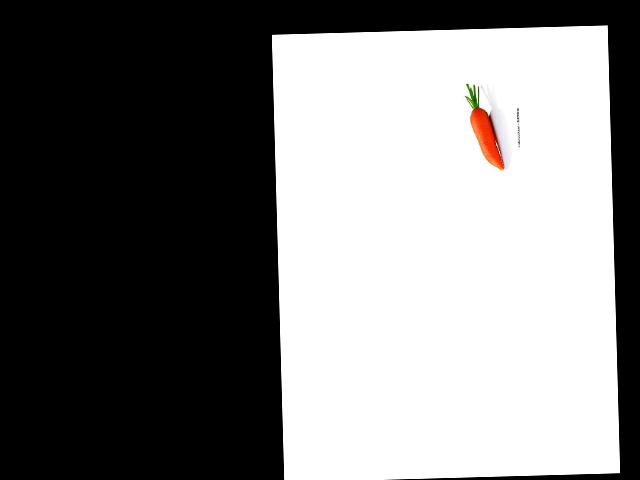carrot: (467, 98, 505, 175)
